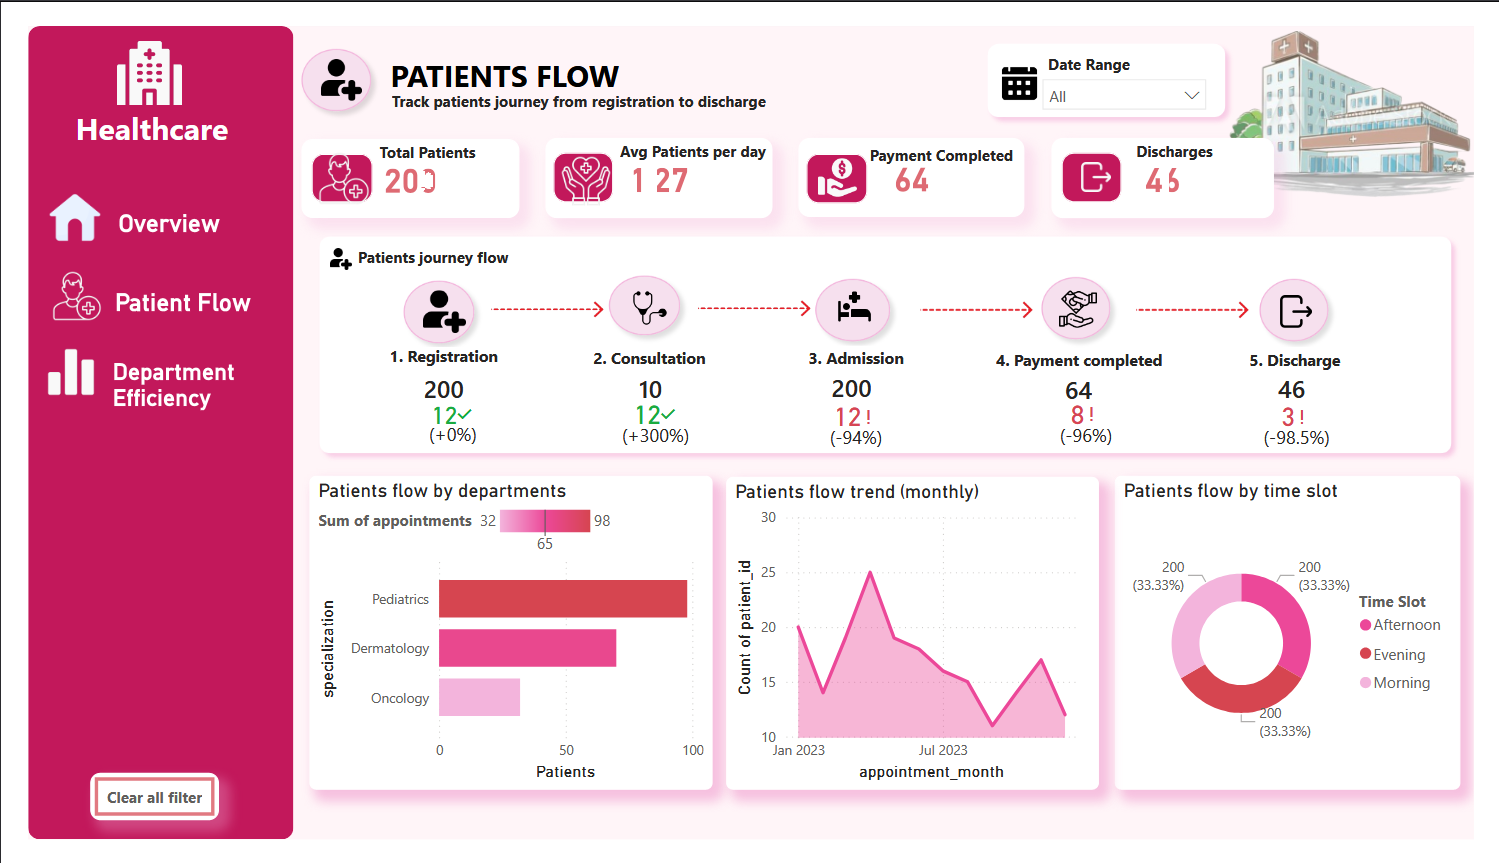

The page's visual inventory and layout, read from the dashboard file:
{"tool":"powerbi","page":{"name":"Patient Flow","canvas":[1280,720],"ordinal":1},"visuals":[{"type":"image","box":[1062.5,0,217.5,156.2],"z":0},{"type":"shape","box":[840,6.7,228.6,82.9],"z":0,"group":"g9"},{"type":"shape","box":[232.7,10.8,79.6,72.7],"z":0,"group":"g6"},{"type":"shape","box":[504.6,211.7,81.4,71.4],"z":0,"group":"g2"},{"type":"shape","box":[888.1,213.1,78.6,72.9],"z":0,"group":"g4"},{"type":"shape","box":[688.1,214.6,84.3,72.9],"z":0,"group":"g3"},{"type":"shape","box":[1081,214.8,78.6,72.9],"z":0,"group":"g5"},{"type":"group","id":"g1","title":"Group 2","box":[322.8,215.3,81.4,72.9],"z":0,"group":"g8"},{"type":"shape","box":[322.8,215.3,81,74.2],"z":0,"group":"g1"},{"type":"textbox","box":[312.9,20,218.6,50],"z":1000},{"type":"image","box":[249.2,28.6,56.3,37],"z":1000,"group":"g6"},{"type":"image","box":[858,34,37.9,32.4],"z":1000,"group":"g9"},{"type":"card","title":"Total Patients","fields":{"Values":["Sum(patient_trend.total_patients)"]},"box":[242.3,100.4,192.9,70],"z":1000,"group":"g7"},{"type":"group","id":"g2","title":"Group 2","box":[504.6,211.7,81.4,71.4],"z":1000,"group":"g8"},{"type":"image","box":[703.8,231.7,55.7,32.9],"z":1000,"group":"g3"},{"type":"image","box":[521.7,233.1,55.7,32.9],"z":1000,"group":"g2"},{"type":"image","box":[339.6,233.5,57.3,37.8],"z":1000,"group":"g1"},{"type":"image","box":[901,234.5,55.7,32.9],"z":1000,"group":"g4"},{"type":"image","box":[1100.6,237.9,43.2,28.8],"z":1000,"group":"g5"},{"type":"shape","box":[0,0,234.6,720.4],"z":2000},{"type":"textbox","box":[898.4,19.6,152.8,31.2],"z":2000,"group":"g9"},{"type":"card","title":"Avg Patients per day","fields":{"Values":["all DAX.Avg Patients Per Day"]},"box":[458,99,201.4,71.4],"z":2000,"group":"g7"},{"type":"group","id":"g3","title":"Group 2","box":[688.1,214.6,84.3,72.9],"z":2000,"group":"g8"},{"type":"slicer","fields":{"Values":["master_dashboard.appointment_month"]},"box":[888.4,36.7,164.2,46],"z":3000,"group":"g9"},{"type":"card","title":"Payment completed","fields":{"Values":["all DAX.Paid Bills"]},"box":[682.3,99,200,70],"z":3000,"group":"g7"},{"type":"group","id":"g4","title":"Group 2","box":[888.1,213.1,78.6,72.9],"z":3000,"group":"g8"},{"type":"image","box":[12.5,283.5,51.7,44.6],"z":3000},{"type":"image","box":[74.3,12.9,67.1,57.1],"z":4000},{"type":"card","title":"Discharges","fields":{"Values":["all DAX.Completed Treatments"]},"box":[906.6,99,197.1,71.4],"z":4000,"group":"g7"},{"type":"group","id":"g5","title":"Group 2","box":[1081,214.8,78.6,72.9],"z":4000,"group":"g8"},{"type":"cardVisual","fields":{"Data":["all DAX.Completed Treatments"]},"box":[1075.6,283.8,85.7,70],"z":4031,"group":"g8"},{"type":"cardVisual","fields":{"Data":["Count(doctor_efficiency.doctor_name)"]},"box":[506.5,283.9,90,70],"z":4062,"group":"g8"},{"type":"cardVisual","fields":{"Data":["all DAX.Paid Bills"]},"box":[885.1,284.6,90,70],"z":4125,"group":"g8"},{"type":"cardVisual","fields":{"Data":["Count(master_dashboard.treatment_id)"]},"box":[683.7,283.1,90,70],"z":4250,"group":"g8"},{"type":"cardVisual","fields":{"Data":["all DAX.Registrations"]},"box":[322.8,283.8,90,70],"z":4500,"group":"g8"},{"type":"image","box":[3.6,215.8,78.5,46.4],"z":5000},{"type":"textbox","box":[315.1,276.4,111.4,37.1],"z":5000,"group":"g8"},{"type":"image","box":[0,146.2,82,46.4],"z":6000},{"type":"textbox","box":[483.4,278.4,133.3,33.3],"z":6000,"group":"g8"},{"type":"actionButton","title":"Overview","box":[79.6,161.9,115.3,31.6],"z":7000},{"type":"textbox","box":[680.8,278.8,104.3,32.9],"z":7000,"group":"g8"},{"type":"actionButton","title":"Patient Flow","box":[76.8,231.9,130.4,26.1],"z":8000},{"type":"textbox","box":[846.5,280.3,168.6,32.9],"z":8000,"group":"g8"},{"type":"textbox","box":[1069.4,280.3,104.3,32.9],"z":9000,"group":"g8"},{"type":"actionButton","title":"Department Efficiency","box":[75.5,293.7,126.2,49.4],"z":9000},{"type":"group","id":"g6","title":"Group 2","box":[232.7,10.8,79.6,72.7],"z":10000},{"type":"group","id":"g7","title":"Group 1","box":[242.3,99,861.4,71.4],"z":11000},{"type":"shape","box":[248.6,177.1,1020,210],"z":12000},{"type":"image","box":[260,195.7,34.3,20],"z":13000},{"type":"textbox","box":[287.1,191.4,161.4,38.6],"z":14000},{"type":"group","id":"g8","title":"Group 3","box":[315.1,211.7,858.6,142.9],"z":15000},{"type":"shape","box":[251.2,112.5,53.8,43.8],"z":16000},{"type":"textbox","box":[305.8,98.3,102.5,30.8],"z":17000},{"type":"textbox","box":[975.7,97.1,102.9,30],"z":18000},{"type":"textbox","box":[740,100,150,41.4],"z":19000},{"type":"textbox","box":[518.6,97.1,148.6,30],"z":20000},{"type":"shape","box":[465,111.7,53.3,44.2],"z":21000},{"type":"shape","box":[689.2,112.5,53.3,44.2],"z":22000},{"type":"shape","box":[915,111.7,53.3,44.2],"z":23000},{"type":"image","box":[252.9,111.4,52.9,47.1],"z":24000},{"type":"image","box":[457.1,114.3,72.9,45.7],"z":25000},{"type":"clusteredBarChart","title":"Patients flow by departments","fields":{"Category":["specialization_load.specialization"],"Y":["Sum(specialization_load.appointments)"]},"box":[248.5,398.1,357.1,277.5],"z":26000},{"type":"donutChart","title":"Patients flow by time slot","fields":{"Y":["Sum(patient_trend.total_patients)"],"Category":["master_dashboard.Time Slot"]},"box":[961.5,398.1,306.4,277.5],"z":27000},{"type":"stackedAreaChart","title":"Patients flow trend (monthly)","fields":{"Category":["master_dashboard.appointment_month"],"Y":["CountNonNull(master_dashboard.patient_id)"]},"box":[617.7,399.3,330.6,276.3],"z":28000},{"type":"actionButton","title":"Clear all filter","box":[55.5,661.1,113.4,42.2],"z":29000},{"type":"textbox","box":[317.1,52.9,365.7,30],"z":30000},{"type":"image","box":[410,232.9,100,35.7],"z":31000},{"type":"image","box":[592.9,232.9,100,34.3],"z":32000},{"type":"image","box":[790,234.3,100,34.3],"z":33000},{"type":"image","box":[981.4,234.3,100,34.3],"z":34000},{"type":"image","box":[687.1,117.1,58.6,34.3],"z":35000},{"type":"image","box":[917.1,120,55.7,27.1],"z":36000},{"type":"group","id":"g9","title":"Group 1","box":[840,6.7,228.6,82.9],"z":37000},{"type":"kpi","fields":{"Indicator":["all DAX.Registrations"],"TrendLine":["master_dashboard.appointment_month"],"Goal":["CountNonNull(master_dashboard.patient_id)"]},"box":[331.7,333.3,85,43.3],"z":38000},{"type":"kpi","fields":{"Indicator":["CountNonNull(master_dashboard.appointment_id)"],"TrendLine":["master_dashboard.appointment_month"],"Goal":["all DAX.Completed Cases"]},"box":[515,333.3,78.3,43.3],"z":39000},{"type":"kpi","fields":{"TrendLine":["master_dashboard.appointment_month"],"Indicator":["CountNonNull(master_dashboard.treatment_id)"],"Goal":["Sum(patient_trend.total_patients)"]},"box":[685,333.3,93.3,46.7],"z":40000},{"type":"kpi","fields":{"TrendLine":["master_dashboard.appointment_month"],"Goal":["Sum(patient_trend.total_patients)"],"Indicator":["all DAX.Paid Bills"]},"box":[888.3,333.3,93.3,43.3],"z":41000},{"type":"kpi","fields":{"TrendLine":["master_dashboard.appointment_month"],"Goal":["Sum(patient_trend.total_patients)"],"Indicator":["all DAX.Completed Treatments"]},"box":[1075,333.3,93.3,46.7],"z":42000},{"type":"textbox","box":[0,67.1,218.6,50],"z":43000}]}

Visuals, with their boxes in screenshot pixels (x1, y1, x2, y2), scaled from the page's 1280x720 canvas onto the 1499x863 screenshot:
image: bbox=[1244, 0, 1498, 187]
shape: bbox=[984, 8, 1251, 107]
shape: bbox=[273, 13, 366, 100]
shape: bbox=[591, 254, 686, 339]
shape: bbox=[1040, 255, 1132, 343]
shape: bbox=[806, 257, 905, 345]
shape: bbox=[1266, 257, 1358, 345]
"Group 2" group: bbox=[378, 258, 473, 345]
shape: bbox=[378, 258, 473, 347]
textbox: bbox=[366, 24, 622, 84]
image: bbox=[292, 34, 358, 79]
image: bbox=[1005, 41, 1049, 80]
"Total Patients" card: bbox=[284, 120, 510, 204]
"Group 2" group: bbox=[591, 254, 686, 339]
image: bbox=[824, 278, 889, 317]
image: bbox=[611, 279, 676, 319]
image: bbox=[398, 280, 465, 325]
image: bbox=[1055, 281, 1120, 321]
image: bbox=[1289, 285, 1339, 320]
shape: bbox=[0, 0, 275, 862]
textbox: bbox=[1052, 23, 1231, 61]
"Avg Patients per day" card: bbox=[536, 119, 772, 204]
"Group 2" group: bbox=[806, 257, 905, 345]
slicer - master_dashboard.appointment_month: bbox=[1040, 44, 1233, 99]
"Payment completed" card: bbox=[799, 119, 1033, 203]
"Group 2" group: bbox=[1040, 255, 1132, 343]
image: bbox=[15, 340, 75, 393]
image: bbox=[87, 15, 166, 84]
"Discharges" card: bbox=[1062, 119, 1293, 204]
"Group 2" group: bbox=[1266, 257, 1358, 345]
cardVisual - all DAX.Completed Treatments: bbox=[1260, 340, 1360, 424]
cardVisual - Count(doctor_efficiency.doctor_name): bbox=[593, 340, 699, 424]
cardVisual - all DAX.Paid Bills: bbox=[1037, 341, 1142, 425]
cardVisual - Count(master_dashboard.treatment_id): bbox=[801, 339, 906, 423]
cardVisual - all DAX.Registrations: bbox=[378, 340, 483, 424]
image: bbox=[4, 259, 96, 314]
textbox: bbox=[369, 331, 499, 376]
image: bbox=[0, 175, 96, 231]
textbox: bbox=[566, 334, 722, 374]
"Overview" actionButton: bbox=[93, 194, 228, 232]
textbox: bbox=[797, 334, 919, 374]
"Patient Flow" actionButton: bbox=[90, 278, 243, 309]
textbox: bbox=[991, 336, 1189, 375]
textbox: bbox=[1252, 336, 1375, 375]
"Department Efficiency" actionButton: bbox=[88, 352, 236, 411]
"Group 2" group: bbox=[273, 13, 366, 100]
"Group 1" group: bbox=[284, 119, 1293, 204]
shape: bbox=[291, 212, 1486, 464]
image: bbox=[304, 235, 345, 259]
textbox: bbox=[336, 229, 525, 276]
"Group 3" group: bbox=[369, 254, 1375, 425]
shape: bbox=[294, 135, 357, 187]
textbox: bbox=[358, 118, 478, 155]
textbox: bbox=[1143, 116, 1263, 152]
textbox: bbox=[867, 120, 1042, 169]
textbox: bbox=[607, 116, 781, 152]
shape: bbox=[545, 134, 607, 187]
shape: bbox=[807, 135, 870, 188]
shape: bbox=[1072, 134, 1134, 187]
image: bbox=[296, 134, 358, 190]
image: bbox=[535, 137, 621, 192]
"Patients flow by departments" clusteredBarChart: bbox=[291, 477, 709, 810]
"Patients flow by time slot" donutChart: bbox=[1126, 477, 1485, 810]
"Patients flow trend (monthly)" stackedAreaChart: bbox=[723, 479, 1111, 810]
"Clear all filter" actionButton: bbox=[65, 792, 198, 843]
textbox: bbox=[371, 63, 800, 99]
image: bbox=[480, 279, 597, 322]
image: bbox=[694, 279, 811, 320]
image: bbox=[925, 281, 1042, 322]
image: bbox=[1149, 281, 1266, 322]
image: bbox=[805, 140, 873, 181]
image: bbox=[1074, 144, 1139, 176]
"Group 1" group: bbox=[984, 8, 1251, 107]
kpi - all DAX.Registrations x master_dashboard.appointment_month: bbox=[388, 399, 488, 451]
kpi - CountNonNull(master_dashboard.appointment_id) x master_dashboard.appointment_month: bbox=[603, 399, 695, 451]
kpi - master_dashboard.appointment_month x CountNonNull(master_dashboard.treatment_id): bbox=[802, 399, 911, 455]
kpi - master_dashboard.appointment_month x Sum(patient_trend.total_patients): bbox=[1040, 399, 1150, 451]
kpi - master_dashboard.appointment_month x Sum(patient_trend.total_patients): bbox=[1259, 399, 1368, 455]
textbox: bbox=[0, 80, 256, 140]
